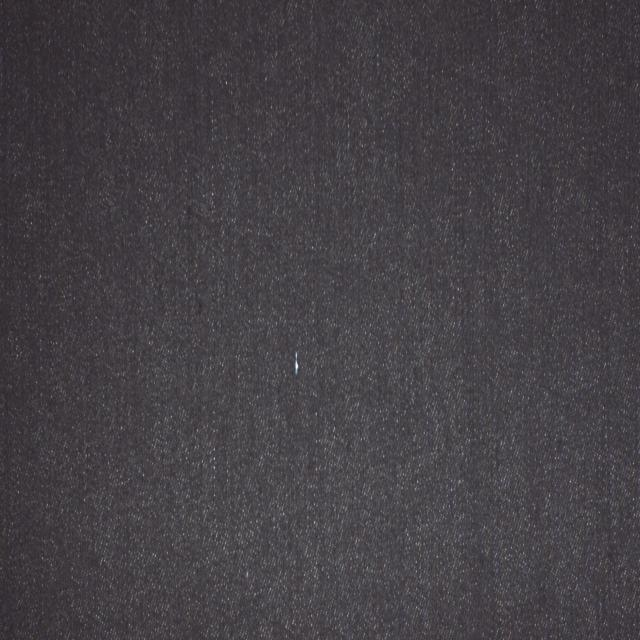Knot: (294, 352, 299, 376)
